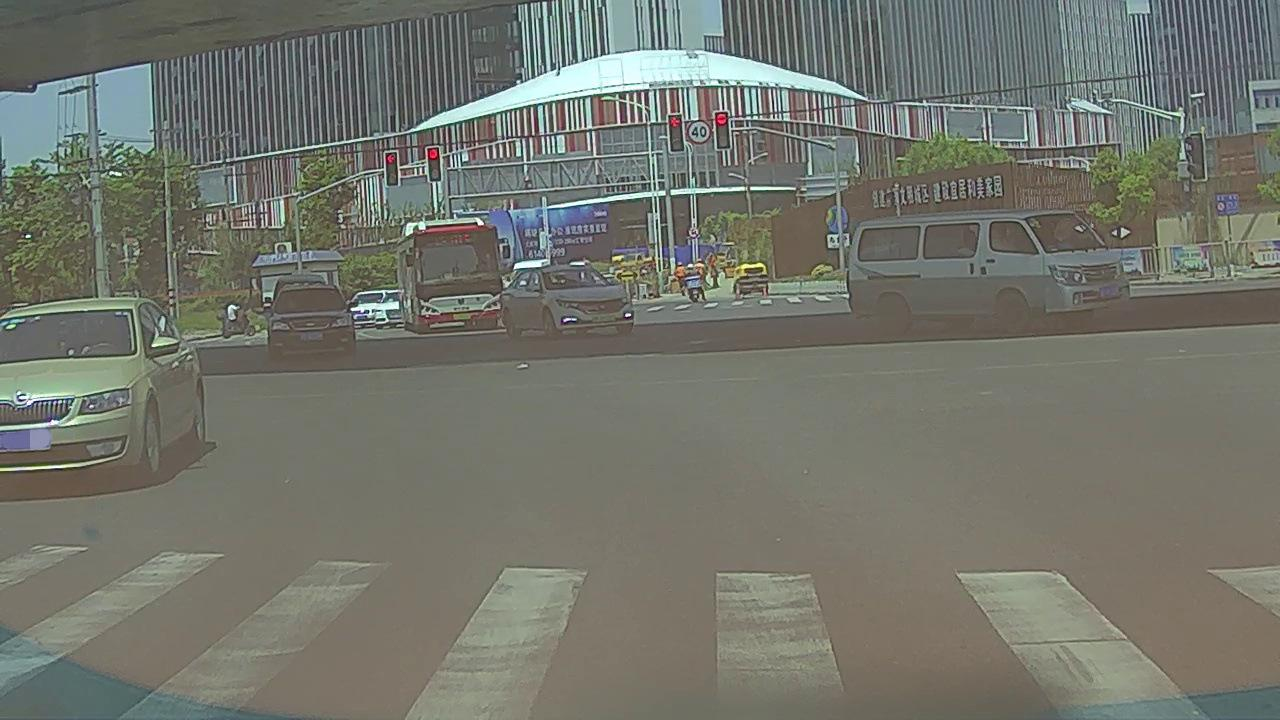traffic_light: (668, 116, 684, 154), (715, 110, 730, 149), (384, 152, 400, 184), (427, 149, 442, 181)
